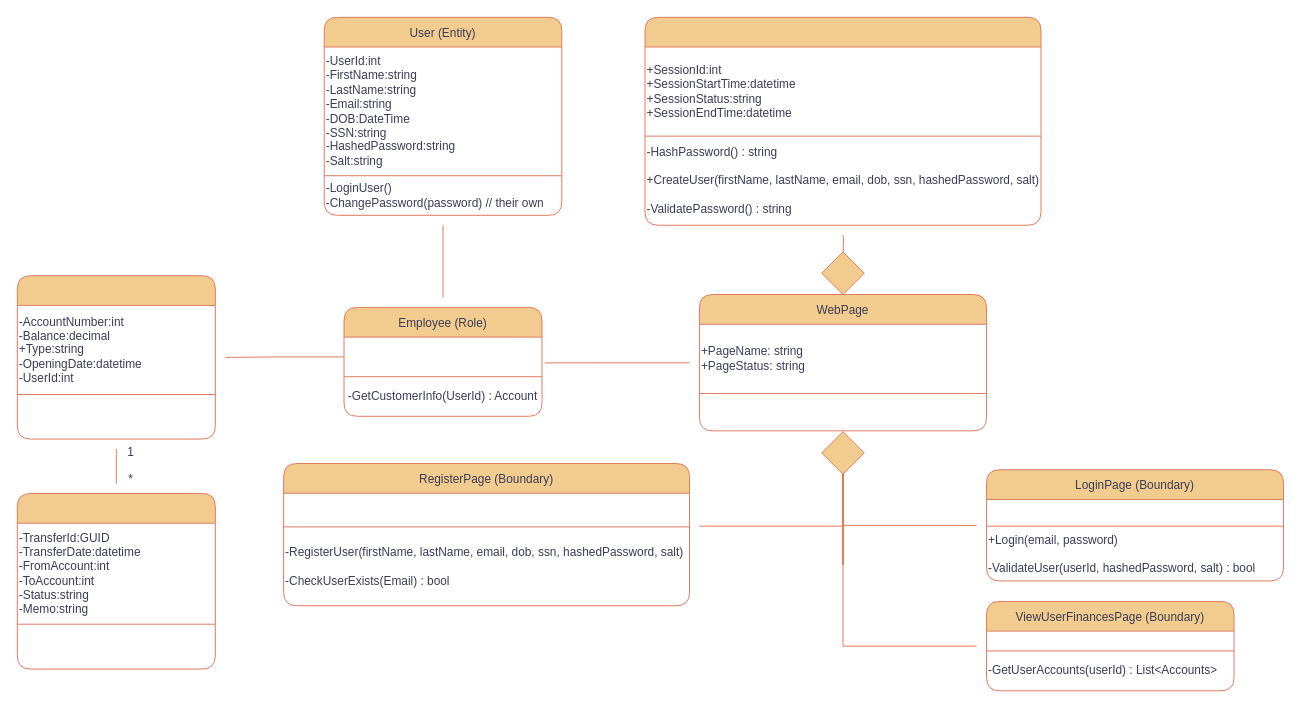
This 1301x709 diagram has some shape labels left out. The box of each missing label's shape, as (x1, y1, x2, y2) in pixels:
Account (Entity): (16, 275, 215, 439)
Main (Controller): (644, 16, 1041, 225)
Transfer (Entity): (16, 493, 215, 669)
